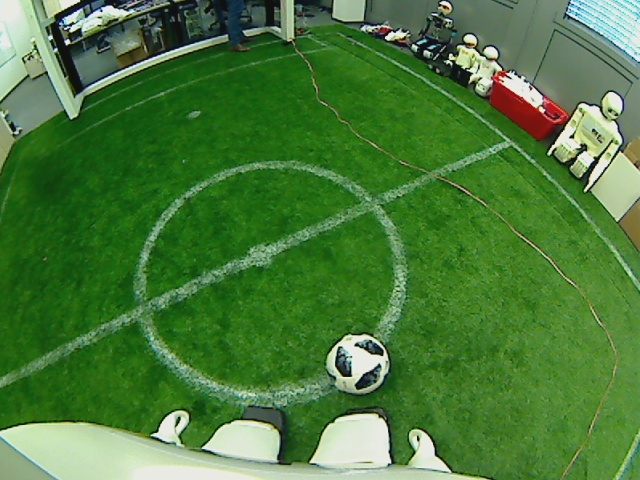ball: (323, 331, 390, 394)
